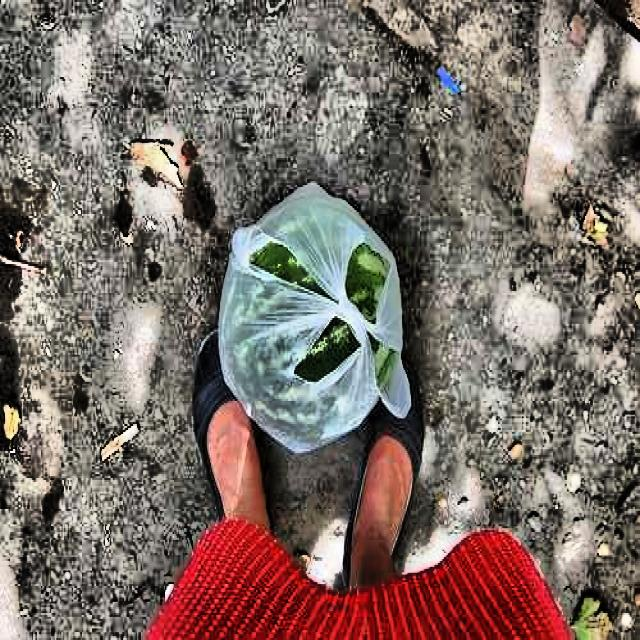Plastic: (213, 173, 428, 457)
